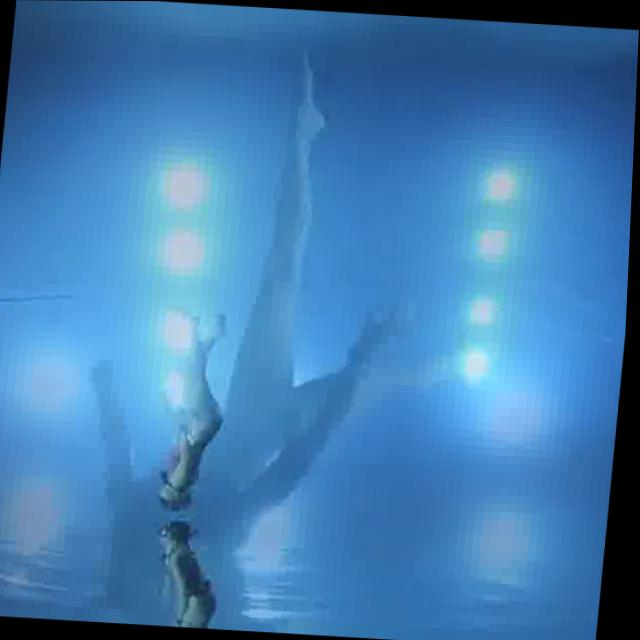human: (37, 34, 508, 640)
